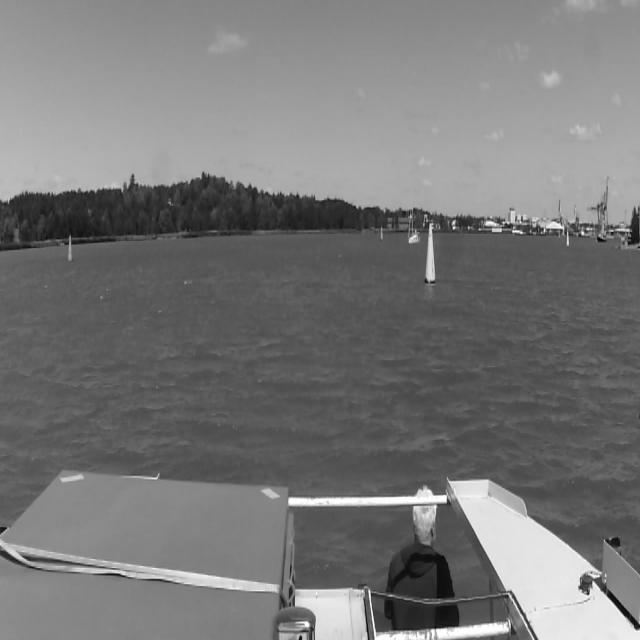buoy: (426, 225, 436, 282), (68, 235, 72, 261), (567, 231, 569, 246), (381, 225, 383, 240)
ship: (408, 206, 420, 243)
